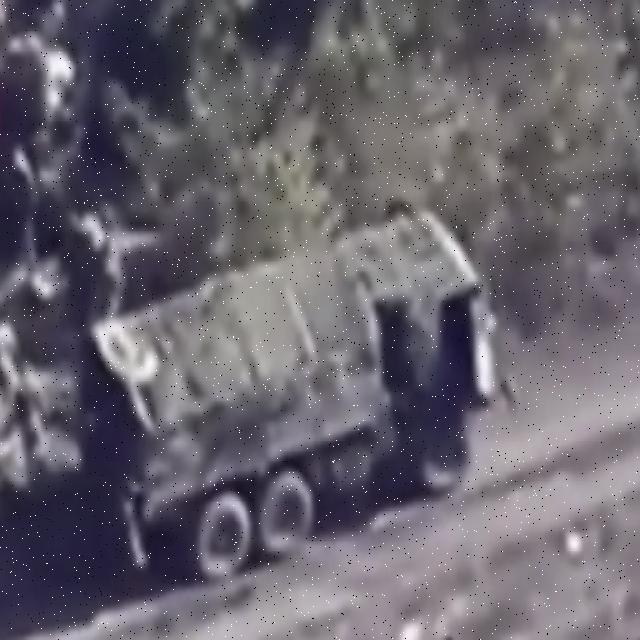TRUCK: (86, 208, 498, 590)
